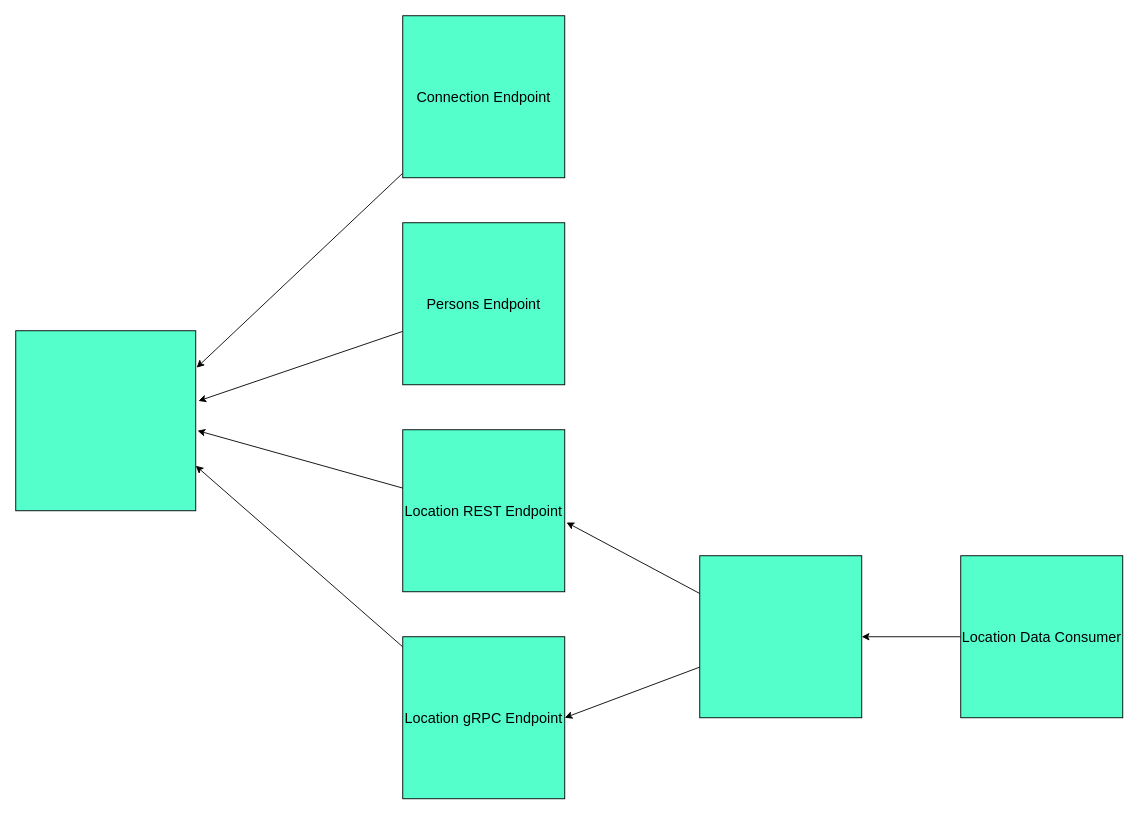
The diagram is 1139 pixels wide and 815 high, and some of its shapes have lost their labels. Here are the shapes that lost their labels. From the top down, the centre of each, then its label:
At (105,420): "Frontend Client".
At (780,636): "Kafka Cluster".
